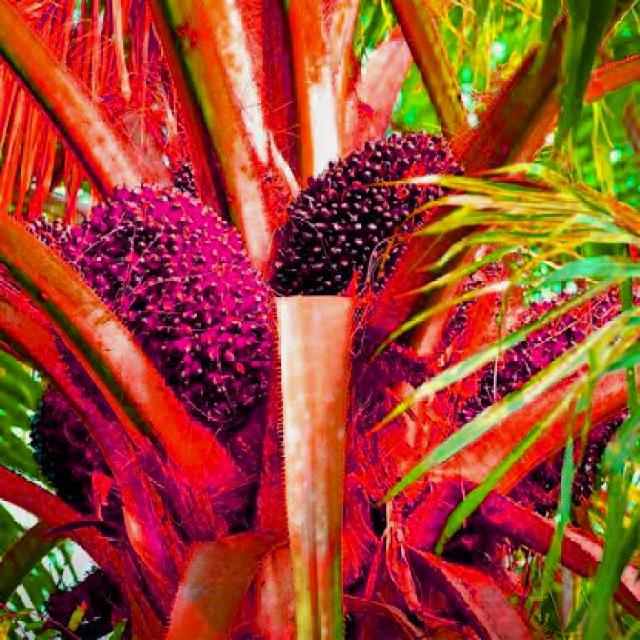palm-oil: (50, 164, 283, 448), (257, 106, 481, 358)
